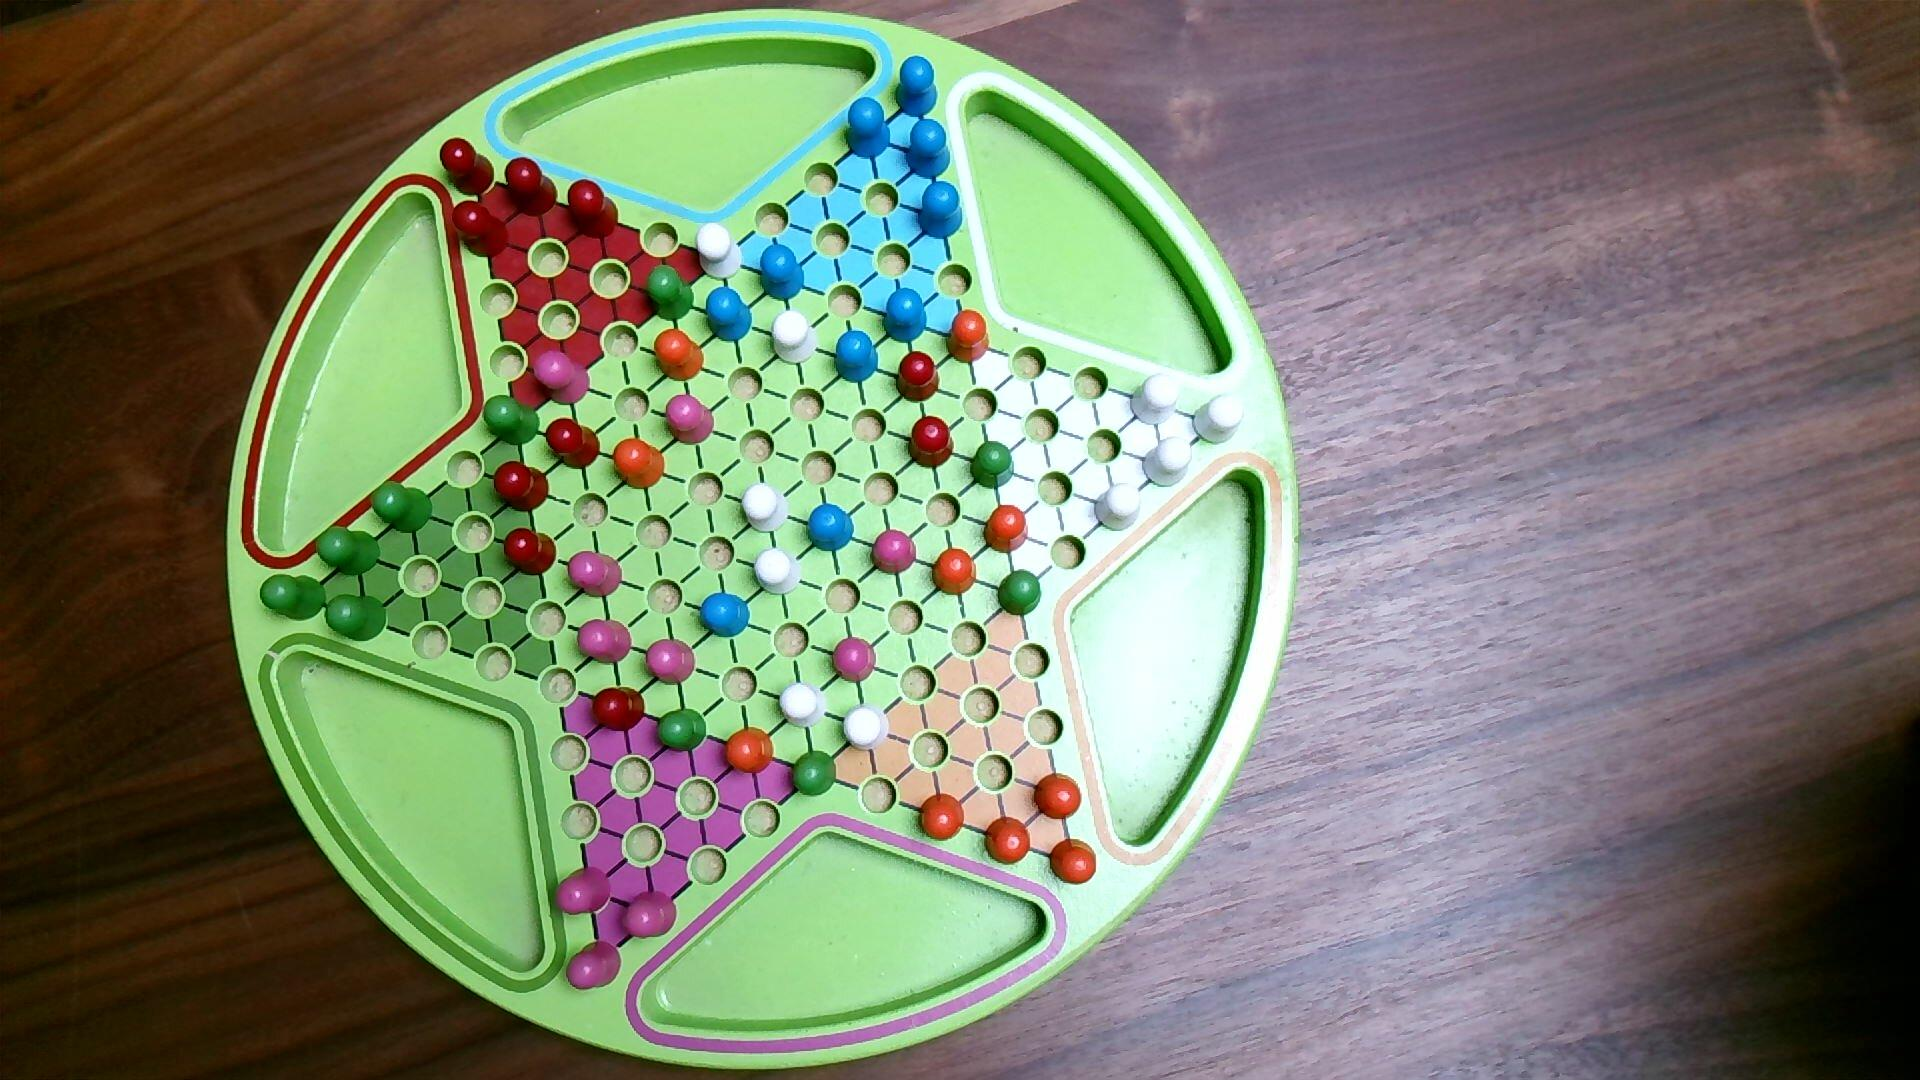B: (843, 95, 893, 162), (916, 179, 967, 243), (905, 117, 953, 182), (704, 285, 756, 345), (758, 241, 807, 305), (894, 53, 940, 119), (882, 285, 930, 345), (832, 328, 881, 386), (804, 500, 856, 554), (698, 591, 752, 640)
G: (369, 479, 436, 537), (314, 524, 384, 579), (260, 572, 328, 624), (644, 260, 698, 324), (481, 392, 542, 448), (323, 593, 389, 644), (655, 705, 709, 756), (968, 438, 1017, 492), (996, 566, 1044, 620), (789, 749, 839, 800)
O: (653, 326, 707, 385), (611, 436, 667, 492), (944, 306, 993, 367), (723, 725, 775, 779), (982, 814, 1034, 868), (1048, 835, 1100, 887), (1033, 770, 1084, 823), (916, 791, 968, 843), (982, 502, 1031, 556), (930, 546, 978, 597)
R: (450, 198, 512, 261), (439, 136, 497, 199), (504, 154, 560, 219), (566, 177, 621, 240), (545, 415, 603, 473), (492, 459, 551, 514), (589, 683, 647, 736), (906, 414, 957, 472), (502, 526, 559, 578), (895, 348, 942, 405)
R2: (531, 348, 593, 407), (563, 936, 624, 993), (554, 864, 615, 918), (621, 889, 680, 942), (567, 549, 626, 600), (665, 392, 717, 448), (576, 617, 634, 667), (644, 636, 698, 688), (829, 634, 880, 686), (869, 526, 919, 578)
W: (1127, 371, 1184, 429), (1189, 392, 1247, 448), (1139, 433, 1195, 492), (740, 479, 793, 537), (770, 309, 822, 368), (695, 220, 744, 282), (1092, 480, 1145, 534), (752, 546, 804, 599), (778, 680, 829, 731), (843, 702, 891, 754)
